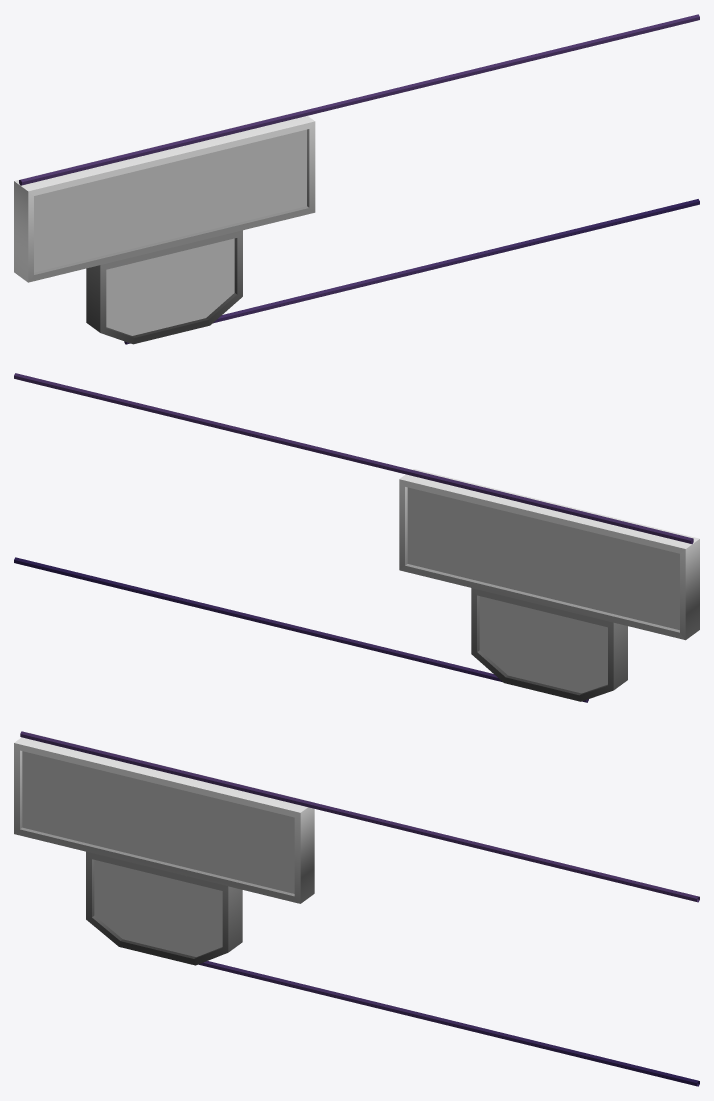
File: SM_HangingSign_Pub.fbx
3 views of the same model, one above another, from view 1: azimuth 30°, elevation 25°; view 2: azimuth 150°, elevation 25°; view 3: azimuth 330°, elevation 25° (orthographic).
Visible parts, largest first — view 1: SM_HangingSign_Pub; view 2: SM_HangingSign_Pub; view 3: SM_HangingSign_Pub.
Boxes of the visible parts, x1,y1,x2,y2 form: SM_HangingSign_Pub: [14, 14, 699, 344]; SM_HangingSign_Pub: [14, 373, 699, 702]; SM_HangingSign_Pub: [14, 731, 699, 1086].
Size of the model in its own units: 295 by 79.17 by 10.69.
